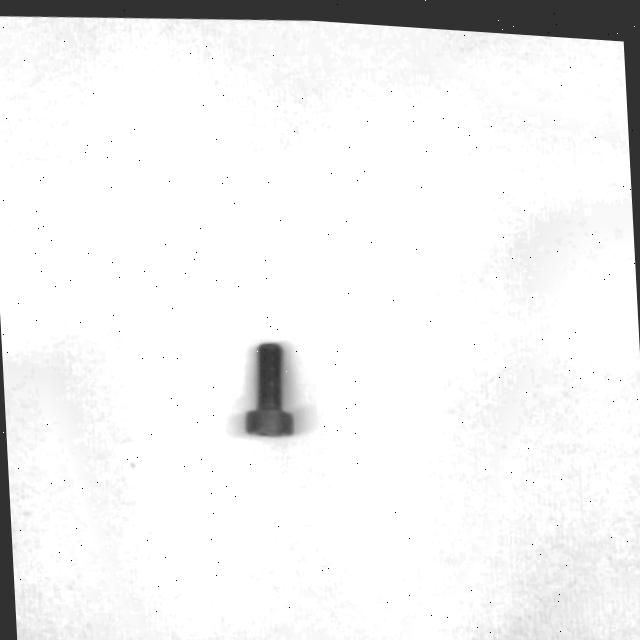Socket head cap screw: (236, 335, 294, 437)
